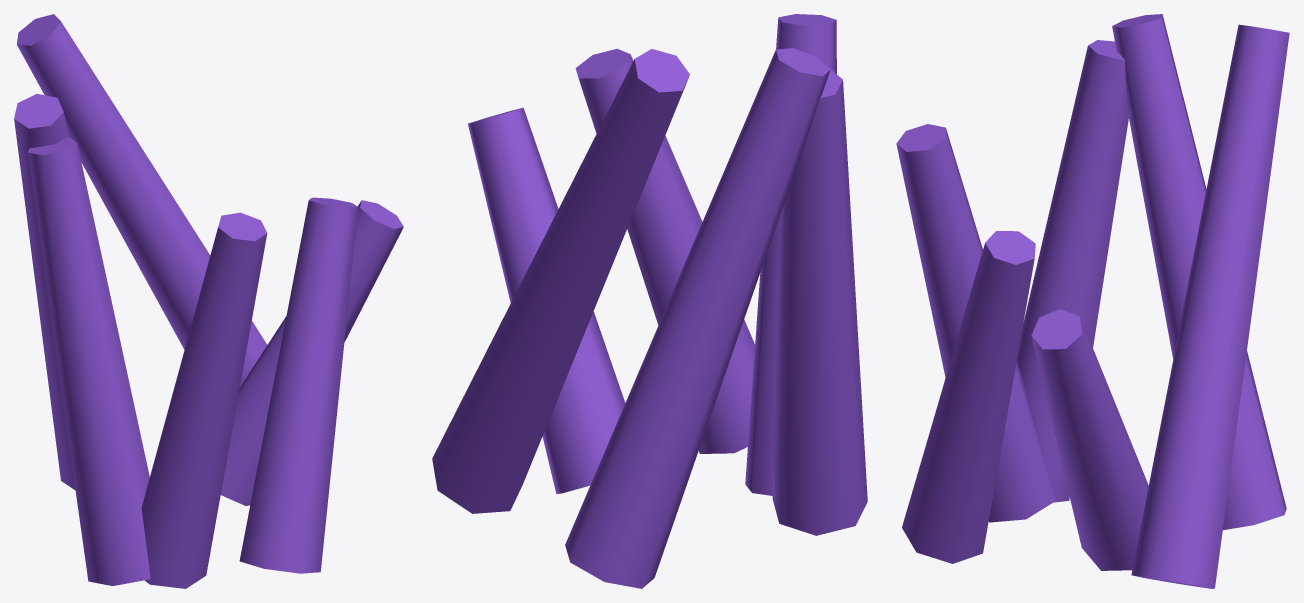
File: coral-cluster.glb
3 views of the same model, side by side, from view 1: azimuth 30°, elevation 25°; view 2: azimuth 150°, elevation 25°; view 3: azimuth 270°, elevation 25° (orthographic). The views are drawn at different scales.
Size of the model in its own units: 1.7 by 2.21 by 1.61.
